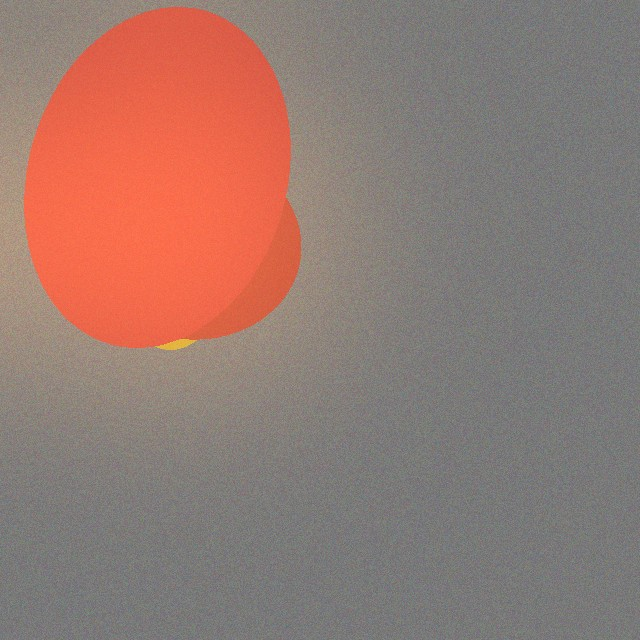fire: (66, 108, 270, 342)
